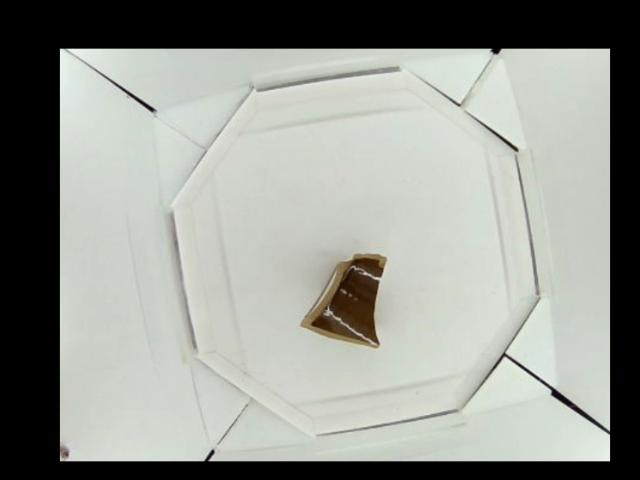China: (298, 251, 386, 346)
